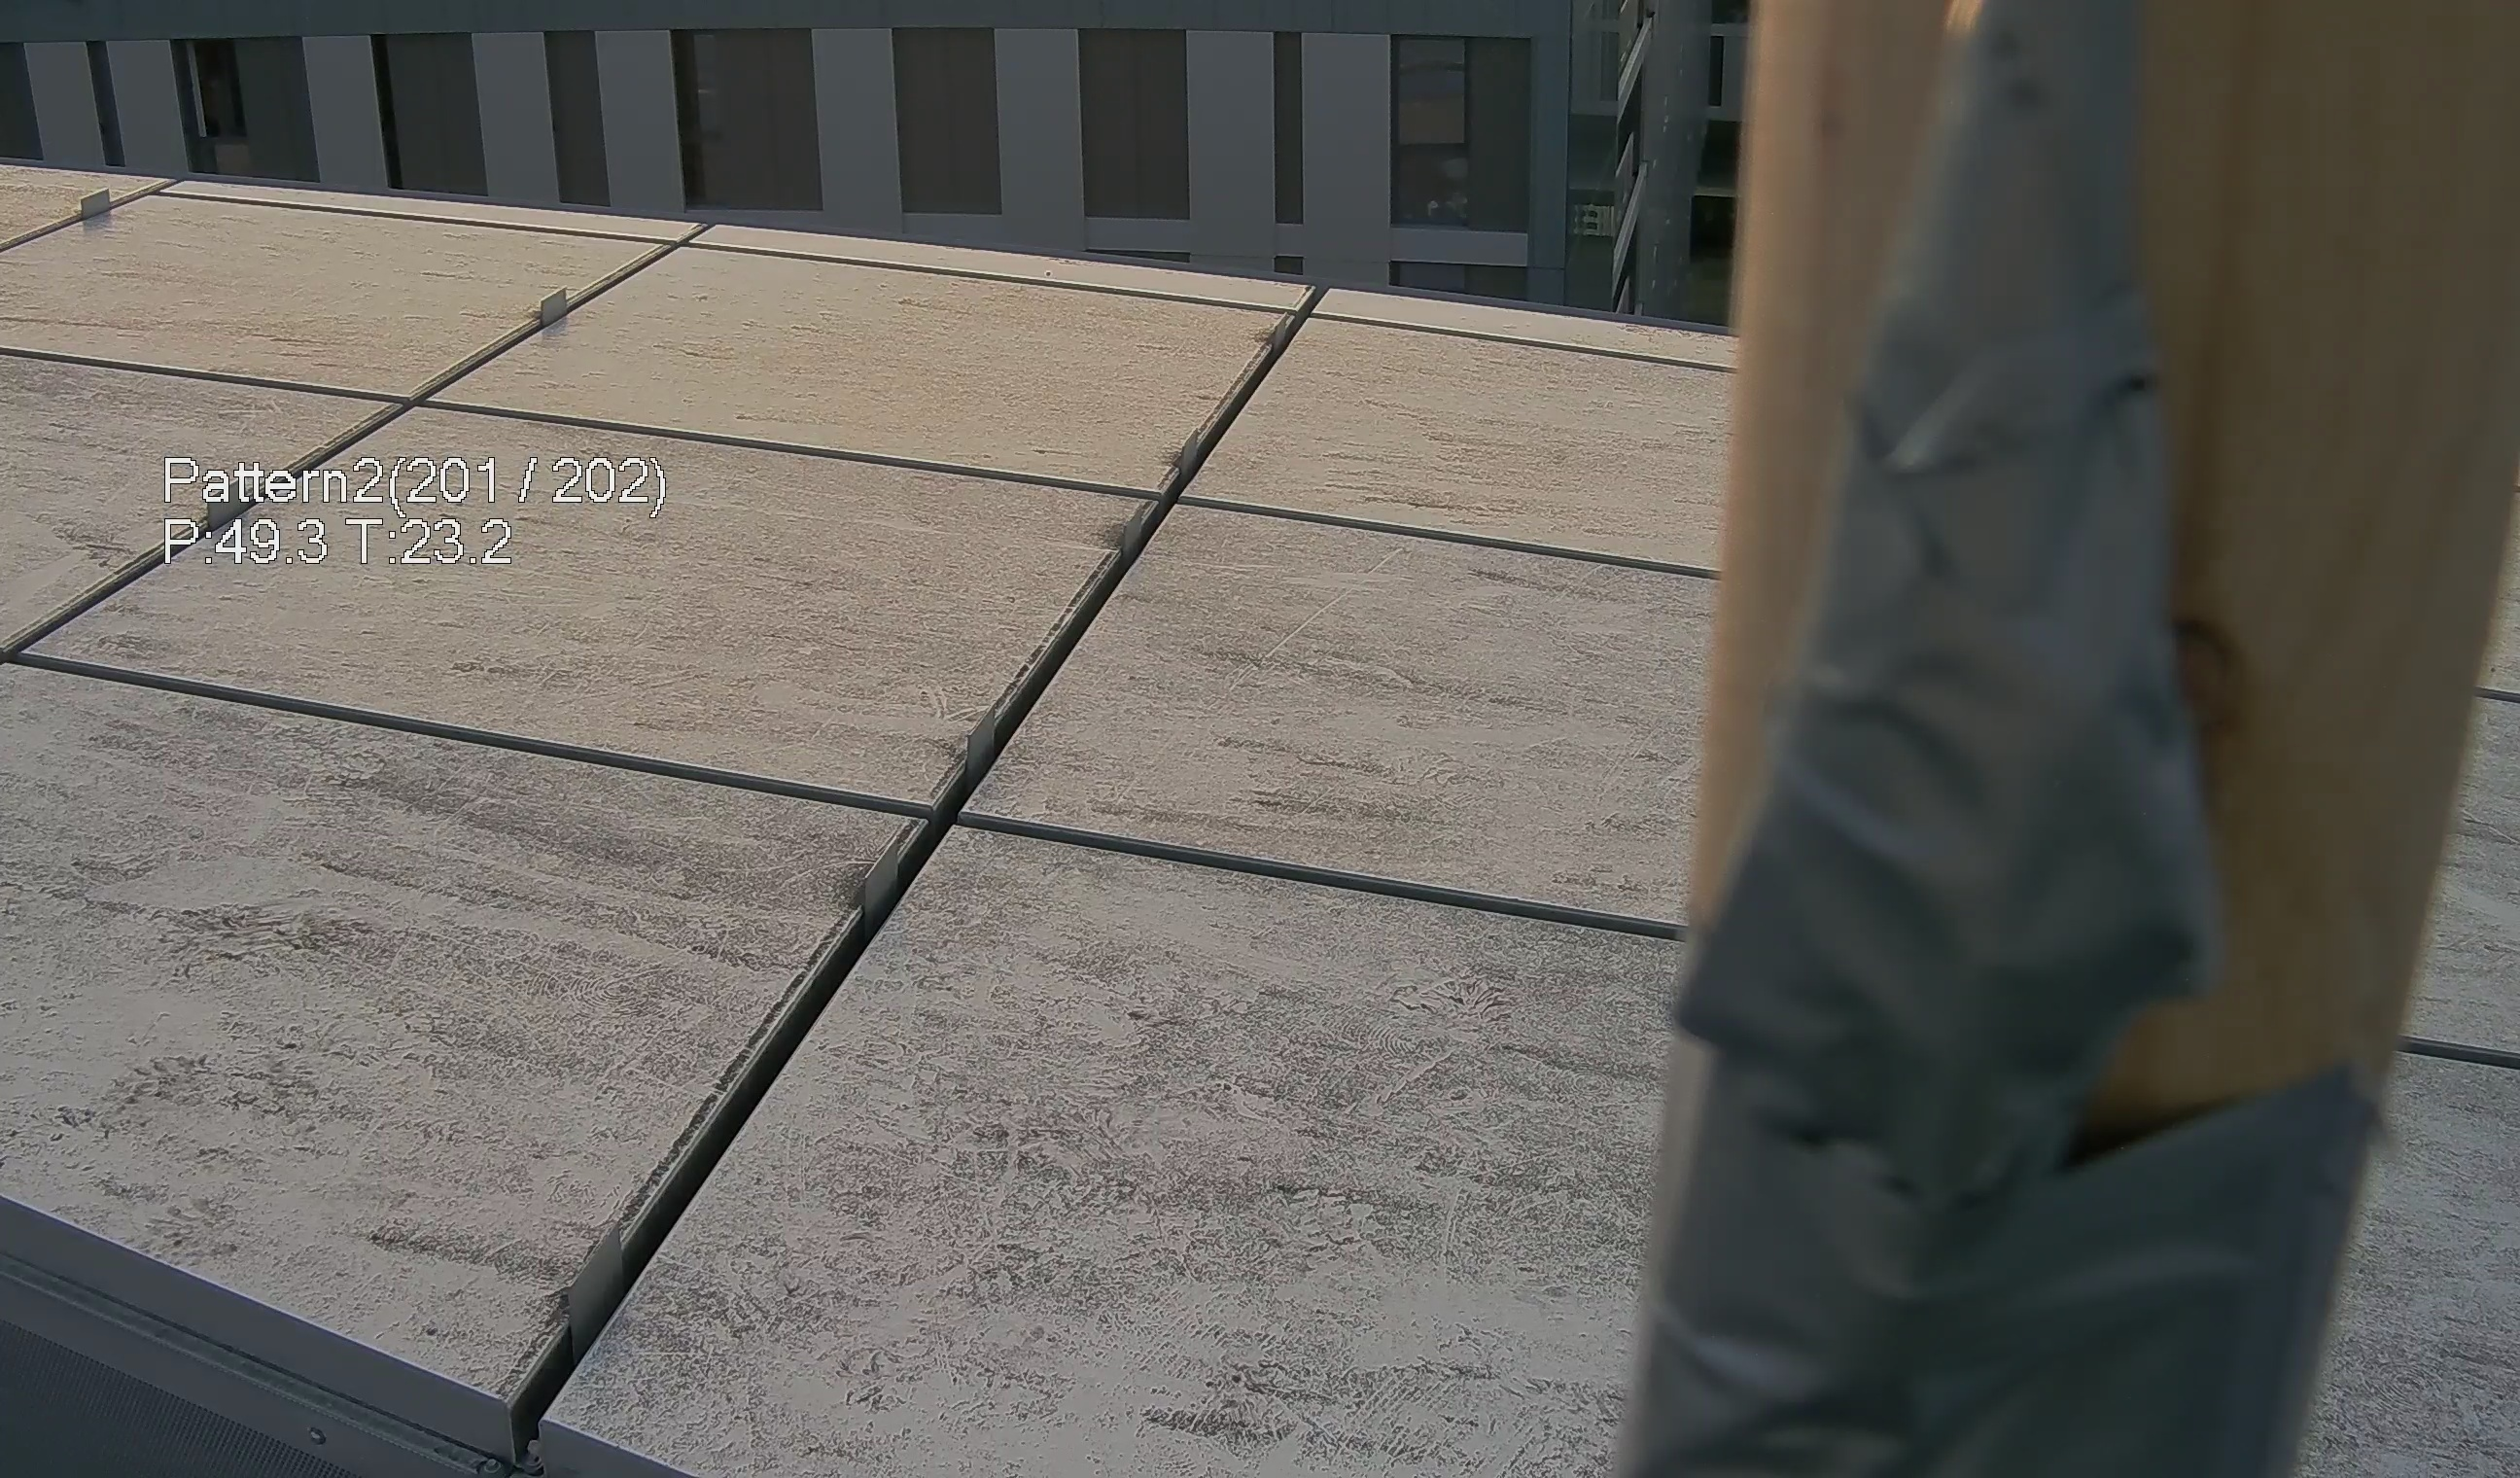Other: (1637, 19, 2471, 1478)
